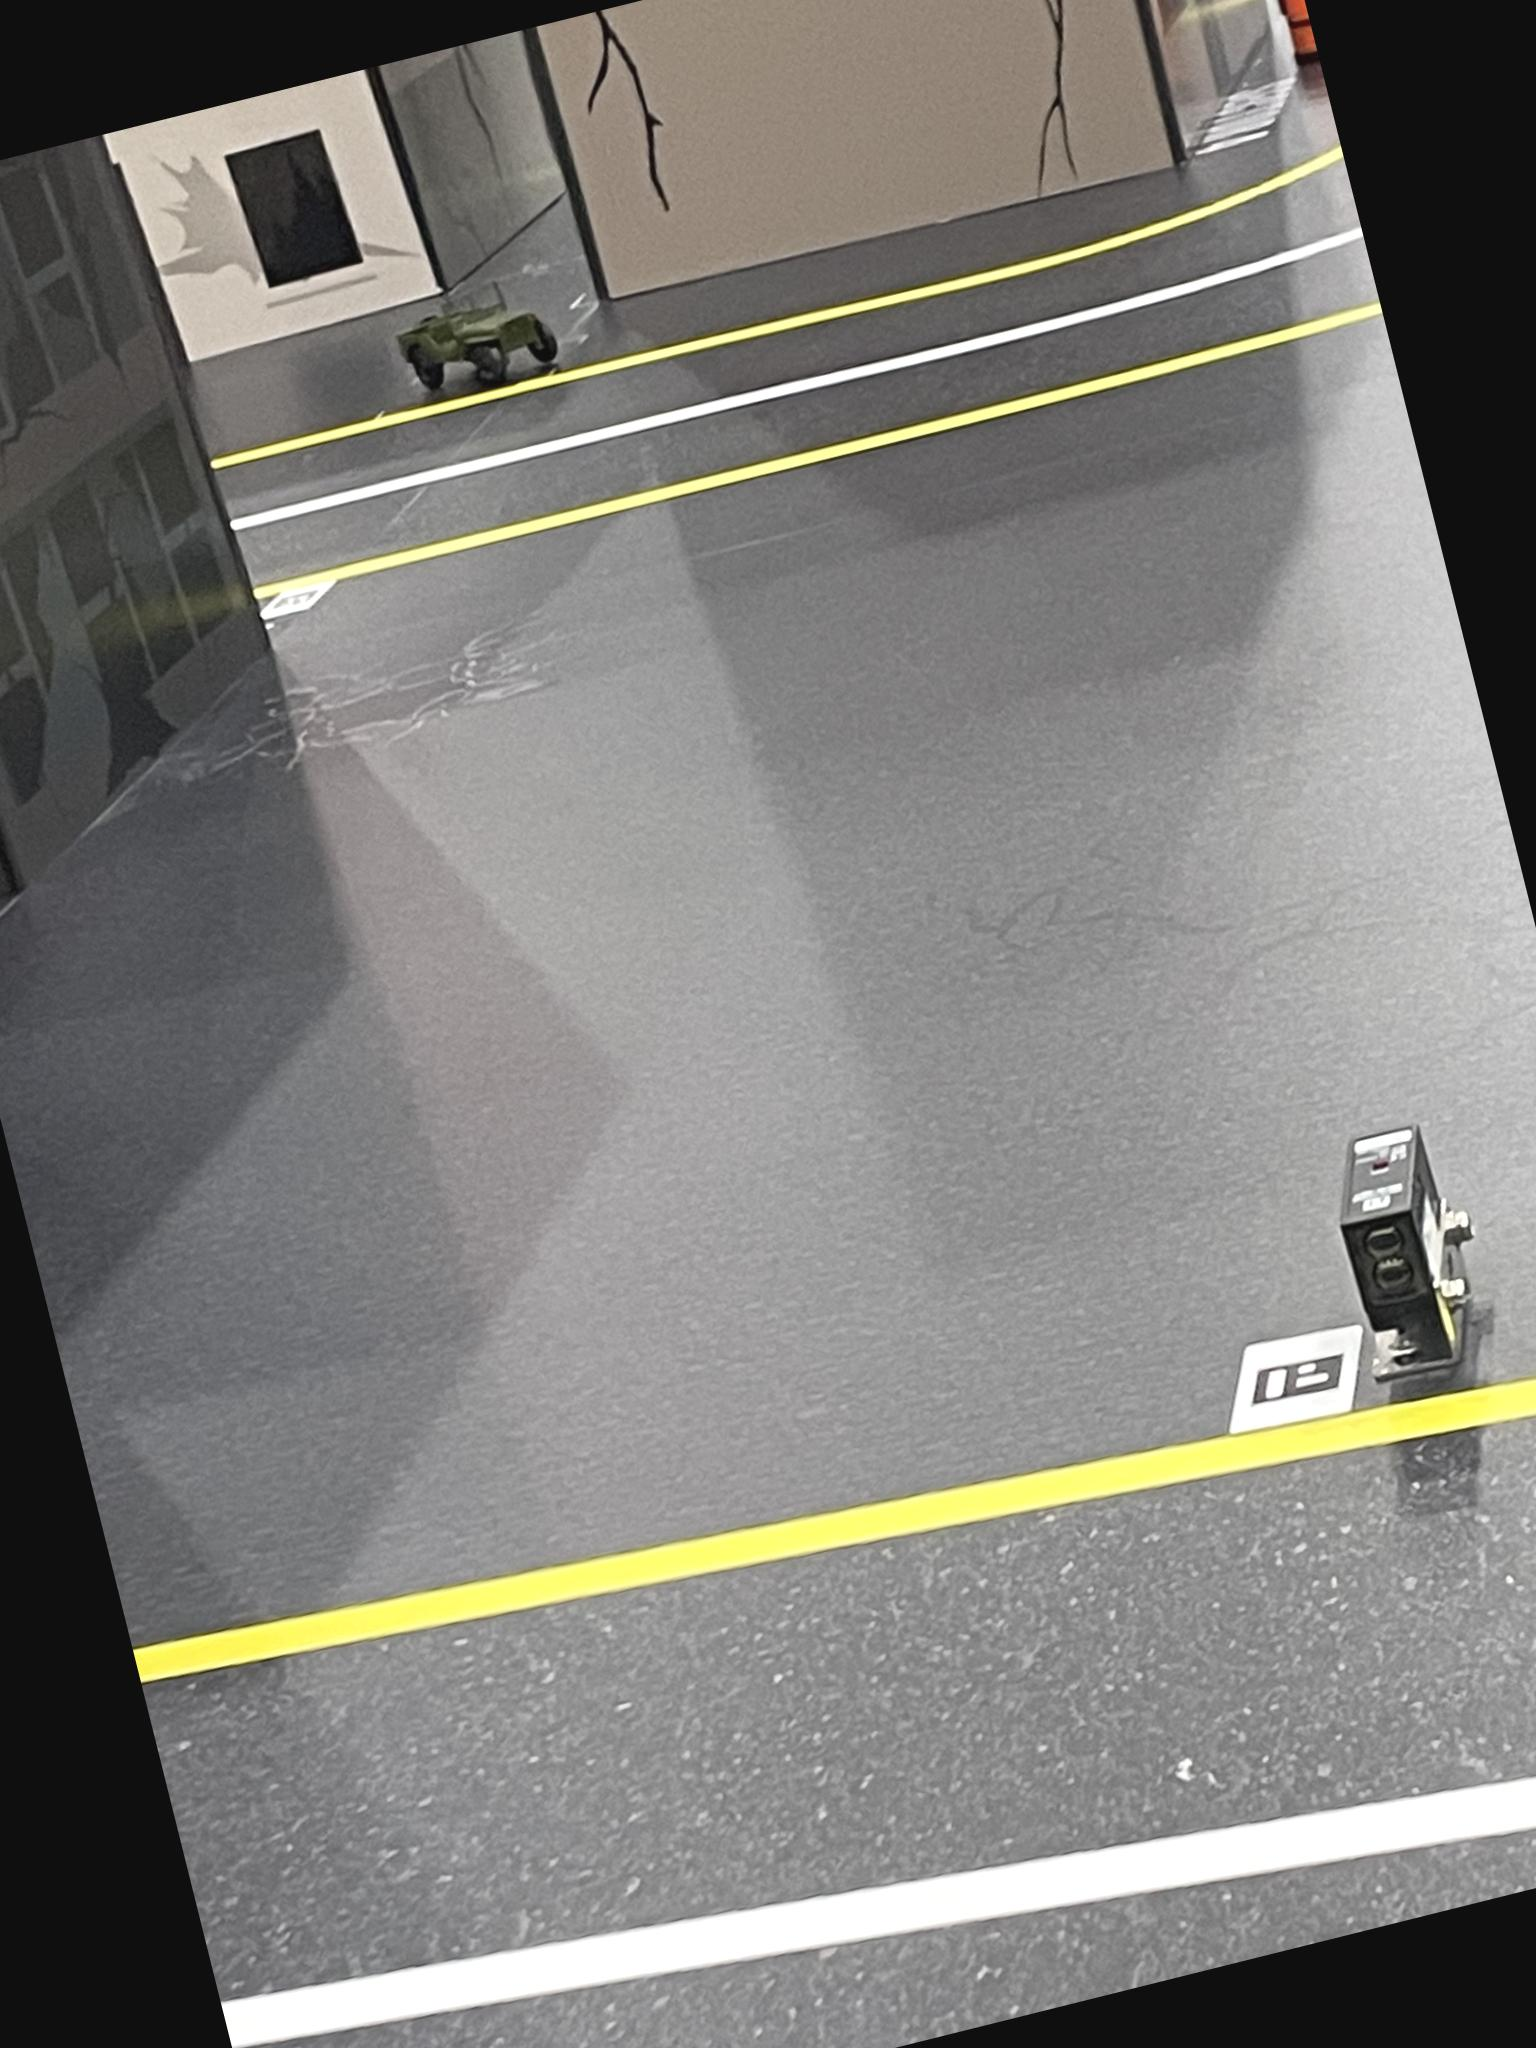Car: (389, 268, 563, 408)
Hazmat: (1267, 0, 1317, 56)
